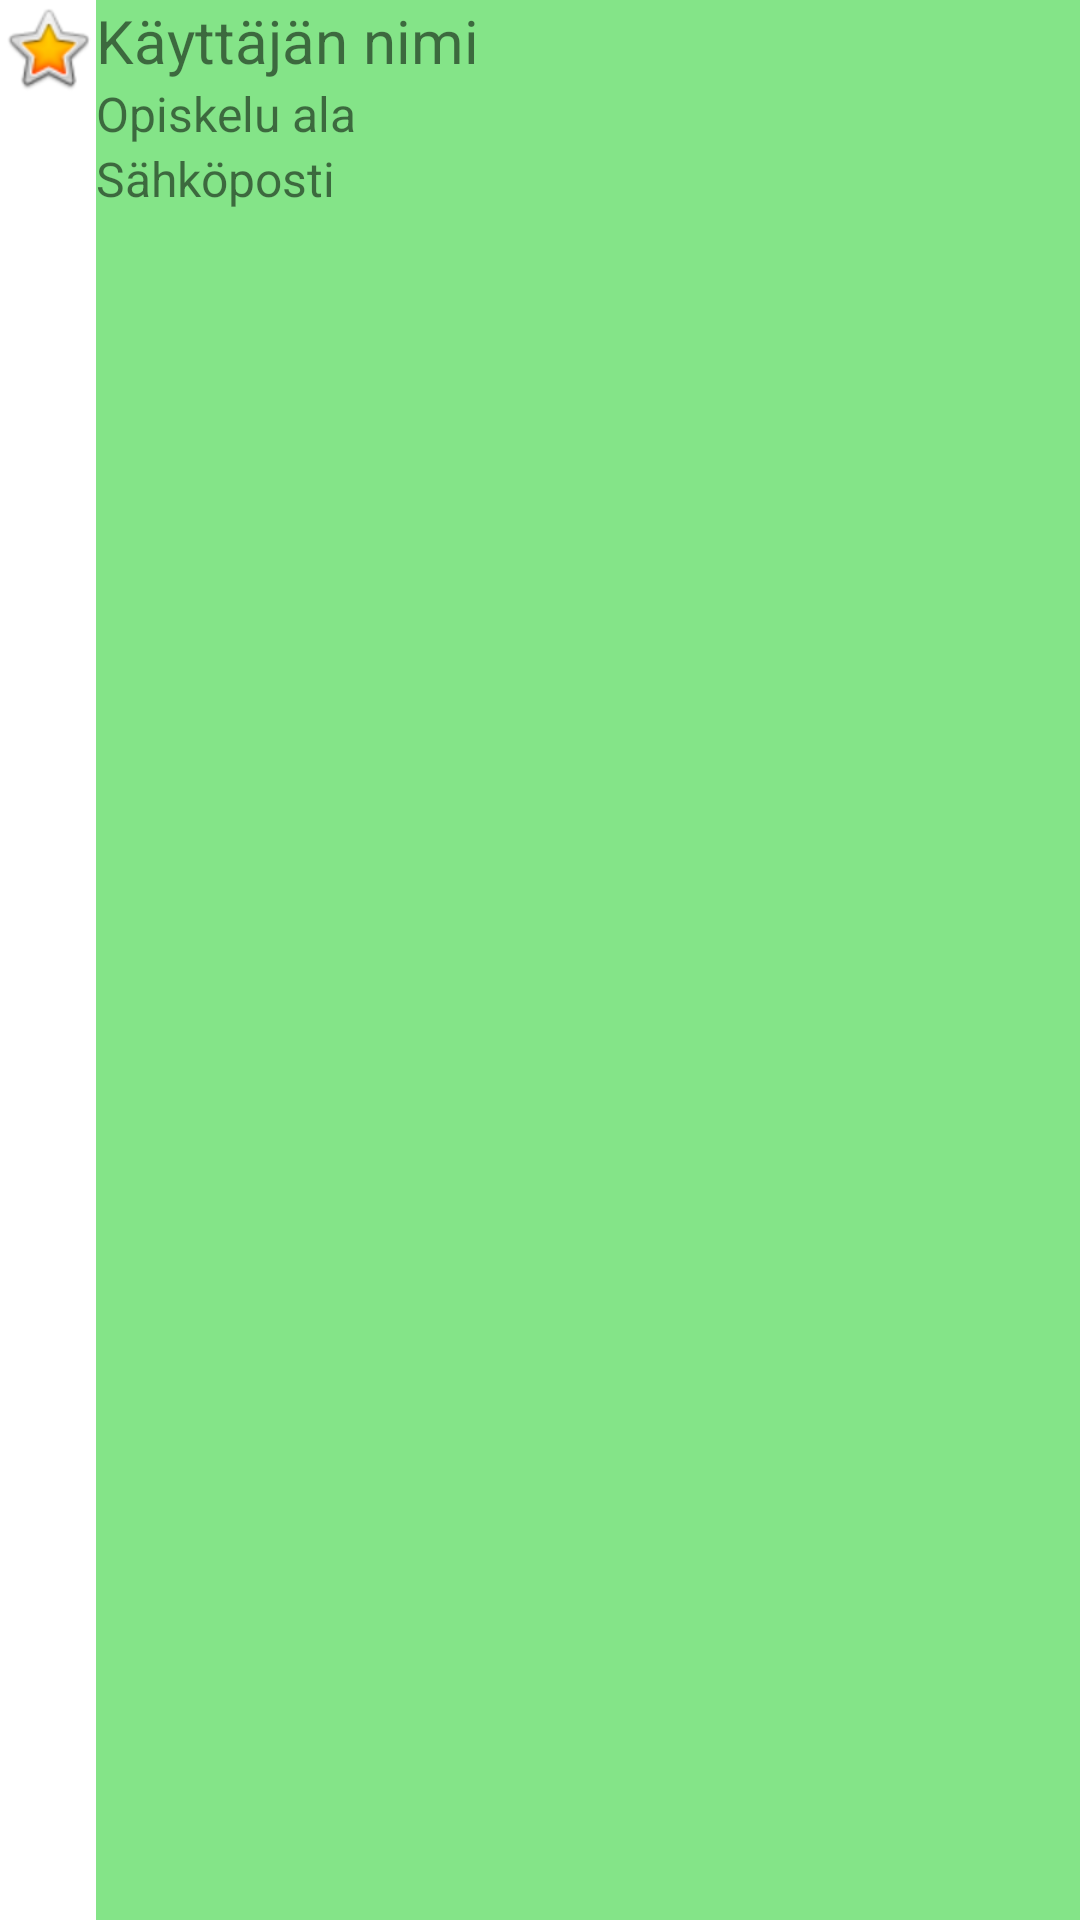

Where icons sit on this 1080*1920 app screen, as (x1, y1, x2, y2):
star on: (9, 10, 89, 88)
